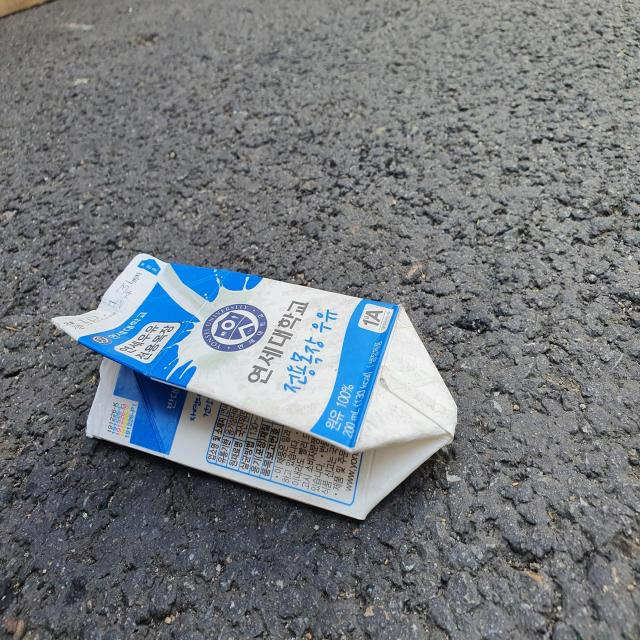paperpack: (52, 253, 458, 519)
